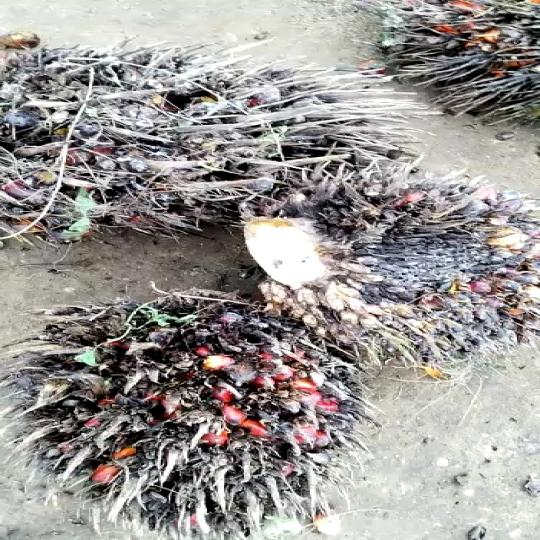terlalu masak: (22, 293, 346, 537), (0, 57, 399, 235), (252, 164, 540, 340)
